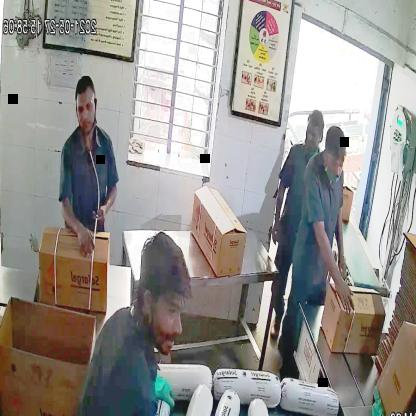no_goggles: (320, 151, 348, 175), (70, 99, 98, 121)
